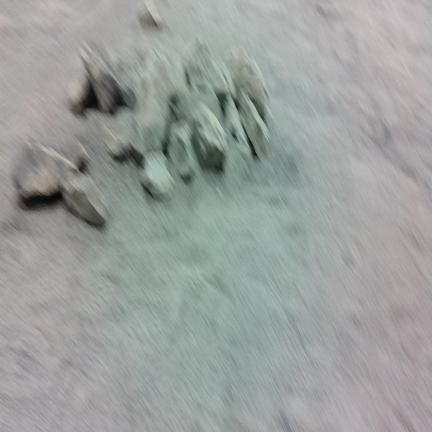Rock: (134, 49, 186, 153), (13, 143, 78, 200), (80, 44, 123, 113), (226, 48, 268, 118), (184, 38, 232, 97), (62, 173, 108, 226), (193, 104, 227, 170), (239, 91, 269, 158), (170, 89, 223, 124), (168, 121, 197, 183), (141, 152, 174, 199), (224, 137, 253, 182), (68, 71, 95, 115), (225, 97, 248, 147), (100, 123, 131, 160), (137, 1, 162, 26), (74, 142, 89, 172)
